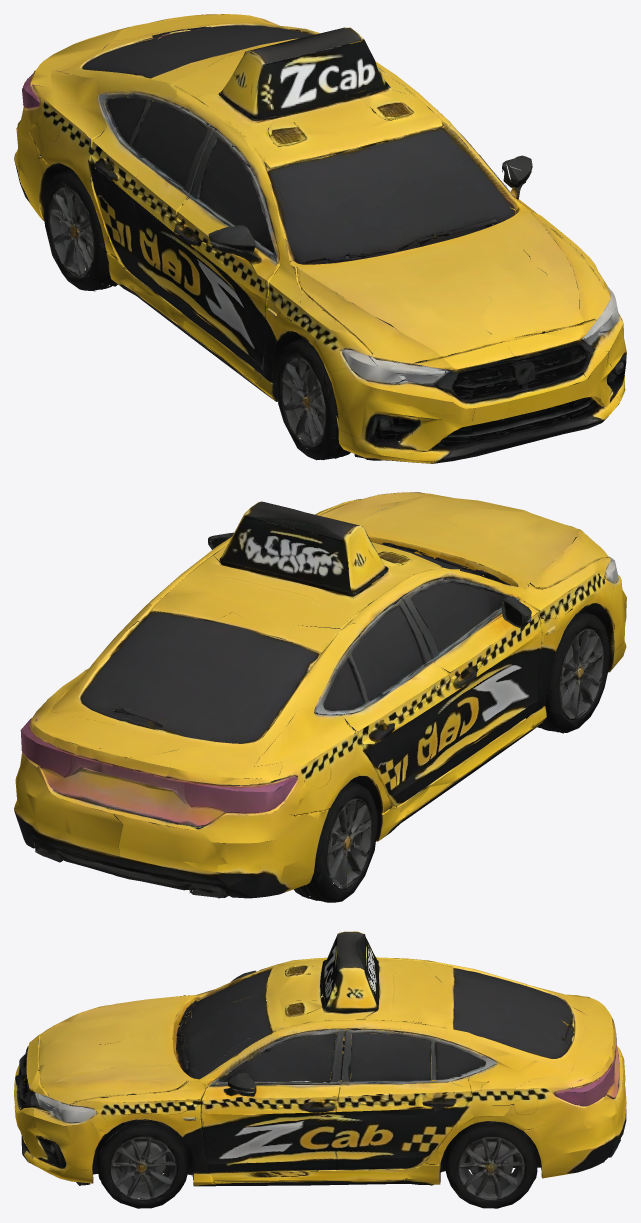
File: z-cab-v180.glb
3 renders of one model, top to bottom at view 1: azimuth 30°, elevation 25°; view 2: azimuth 150°, elevation 25°; view 3: azimuth 270°, elevation 25°, orthographic. The views are drawn at different scales.
Parts seen in each view (by area): view 1: model; view 2: model; view 3: model.
Boxes of the visible parts, x1,y1,x2,y2 form: model: (14,14,626,463); model: (14,492,626,902); model: (14,931,626,1208).
Bounding box in the file's own units: 2.32 × 1.95 × 5.12.
1 material, 1 textured.
